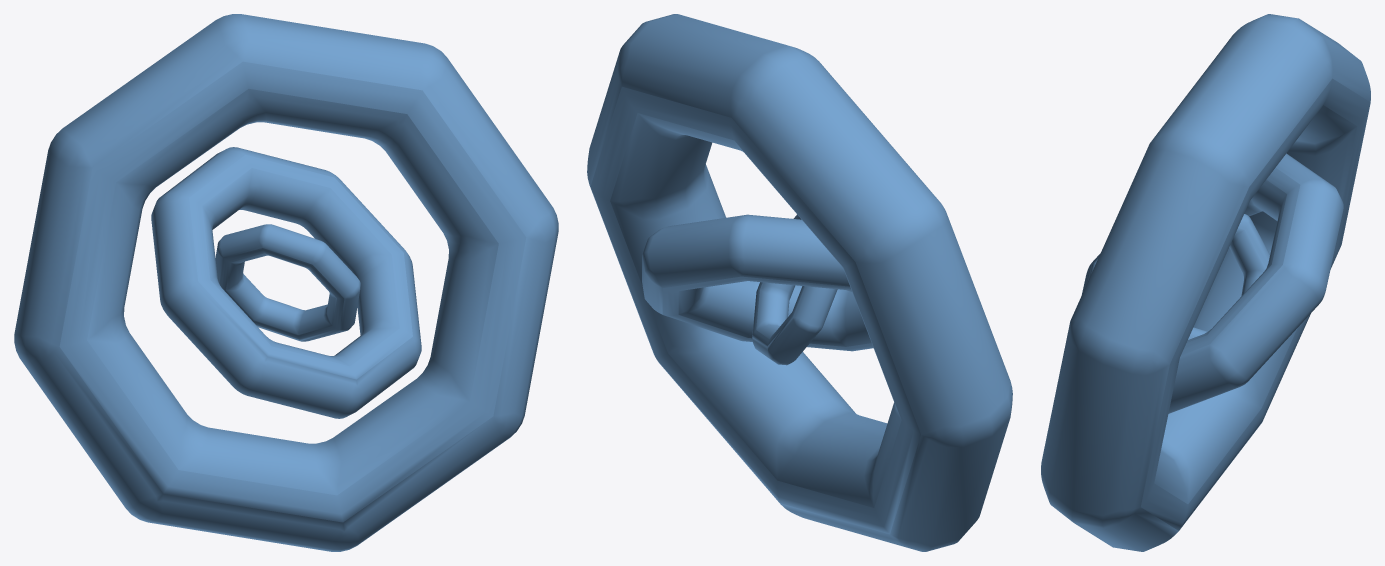
The model's file is Holographic Shapes_24.glb.
The picture shows the model from 3 angles, left to right: view 1: azimuth 30°, elevation 25°; view 2: azimuth 150°, elevation 25°; view 3: azimuth 270°, elevation 25°; orthographic projection. The views are drawn at different scales.
Visible parts, largest first — view 1: Torus, Torus.001, Torus.002; view 2: Torus, Torus.001, Torus.002; view 3: Torus, Torus.001, Torus.002.
Boxes of the visible parts, x1,y1,x2,y2 form: Torus: [14, 14, 558, 551]; Torus.001: [151, 147, 421, 418]; Torus.002: [215, 224, 360, 341]; Torus: [587, 14, 1012, 551]; Torus.001: [642, 214, 873, 351]; Torus.002: [752, 214, 837, 365]; Torus: [1041, 14, 1370, 551]; Torus.001: [1082, 153, 1343, 413]; Torus.002: [1188, 214, 1269, 339].
Size of the model in its own units: 2.01 by 2.04 by 1.19.
